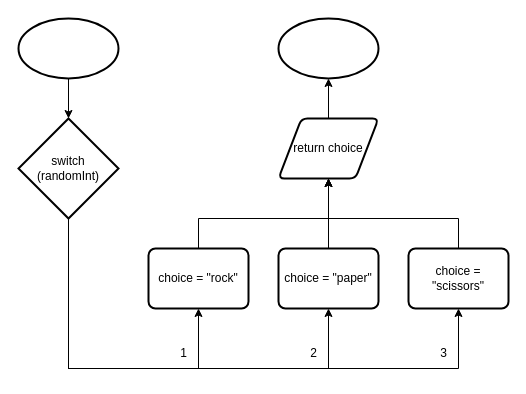
The diagram is 526 pixels wide and 394 high, and some of its shapes have lost their labels. Here are the shapes that lost their labels. From the top down, the box of each, then its label:
(17, 17, 119, 79): Start
(277, 17, 379, 79): Stop
